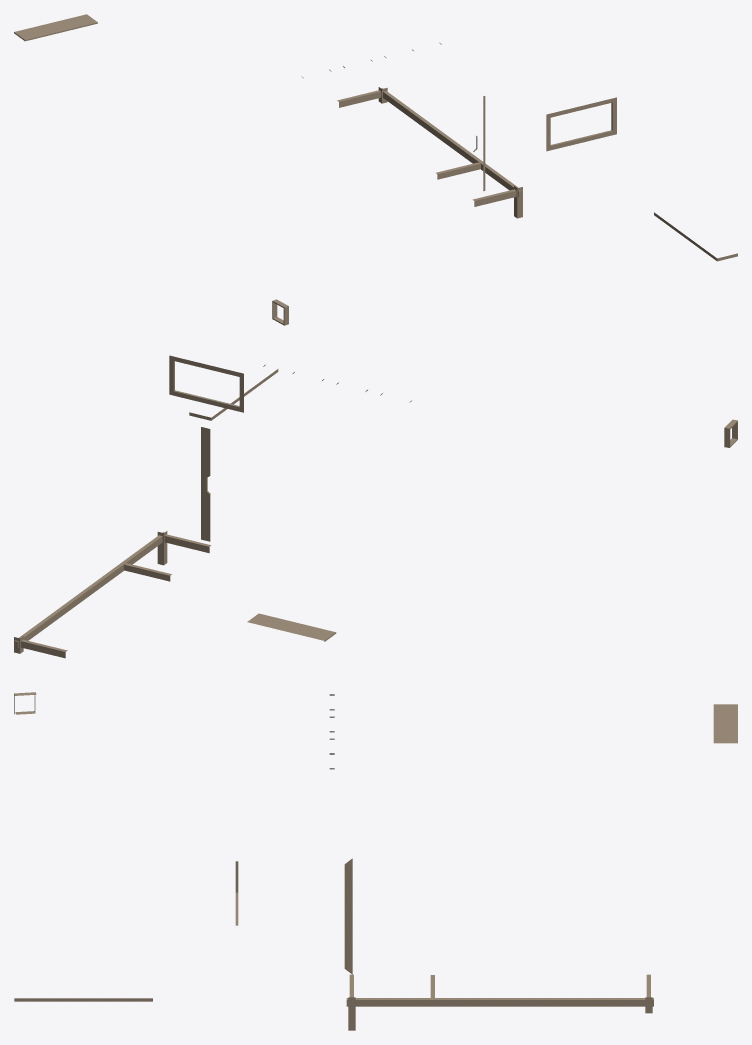
Rendered from kd_stage_135ded_4_16_exterior.glb.
3 views of the same model, one above another, from view 1: azimuth 30°, elevation 25°; view 2: azimuth 150°, elevation 25°; view 3: azimuth 270°, elevation 25° (orthographic). The views are drawn at different scales.
Visible parts, largest first — view 1: kd_stage_135ded_4_16_exterior; view 2: kd_stage_135ded_4_16_exterior; view 3: kd_stage_135ded_4_16_exterior.
Part boxes in pixels (box(x1,y1,x2,y2)): kd_stage_135ded_4_16_exterior: box(14, 14, 737, 325); kd_stage_135ded_4_16_exterior: box(14, 355, 737, 658); kd_stage_135ded_4_16_exterior: box(14, 692, 737, 1030).
Bounding box in the file's own units: 7.86 × 3.32 × 9.85.
Materials: 1 (1 with a texture image).
